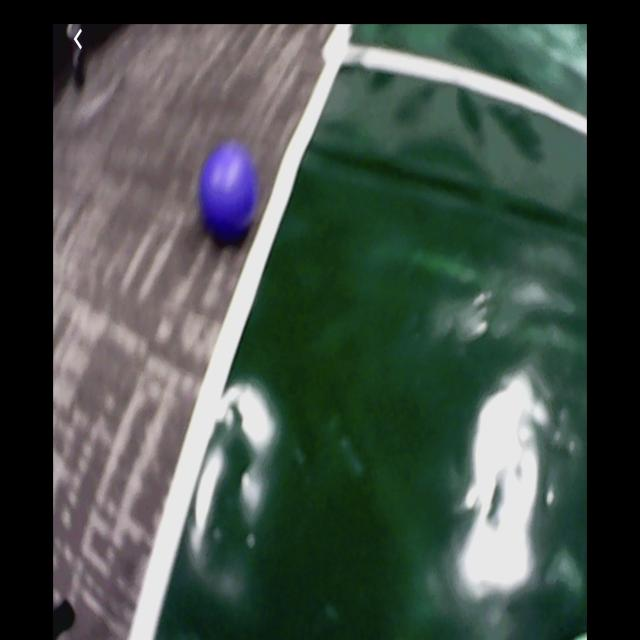ball: (202, 147, 257, 235)
